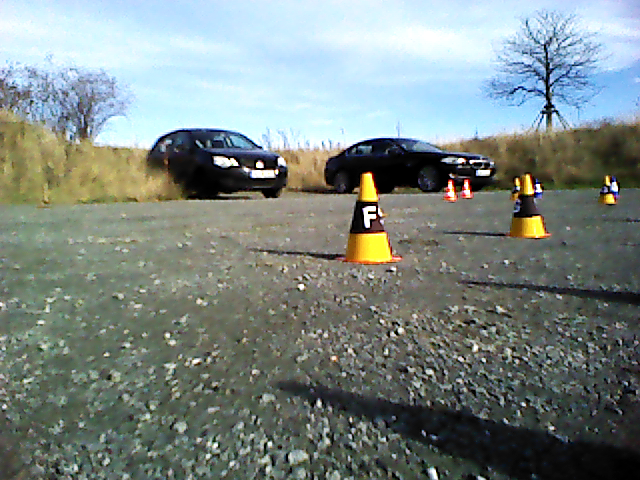yellowcone: (348, 172, 392, 260), (512, 175, 546, 236)
